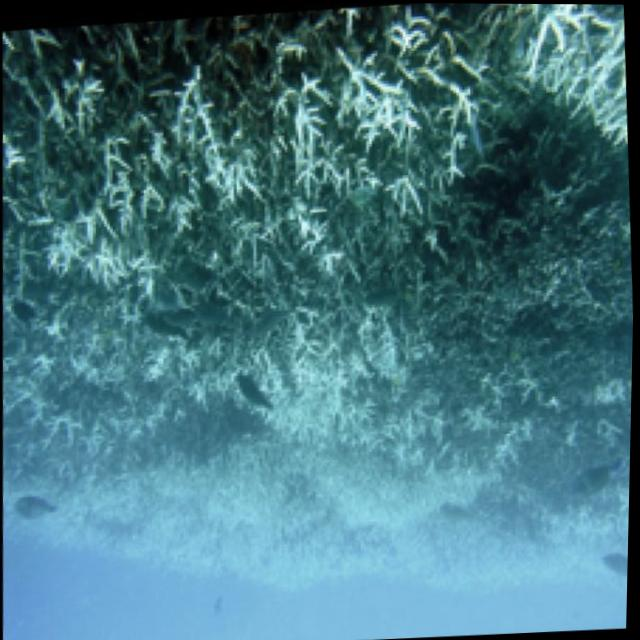Dead Coral: (0, 3, 357, 341), (379, 118, 638, 519)
